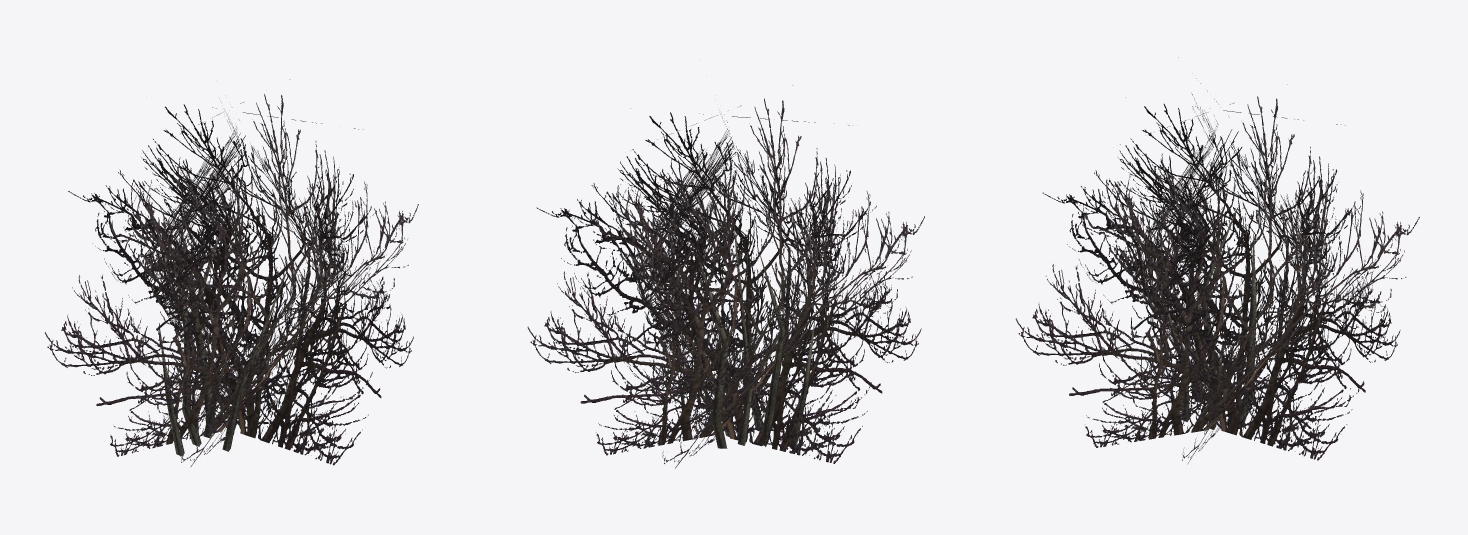
The model's file is Tree1.glb.
3 views of the same model, side by side, from view 1: azimuth 30°, elevation 25°; view 2: azimuth 150°, elevation 25°; view 3: azimuth 270°, elevation 25° (orthographic).
Visible parts, largest first — view 1: Tree_02_Tree_02_0; view 2: Tree_02_Tree_02_0; view 3: Tree_02_Tree_02_0.
Part boxes in pixels (x1=…): Tree_02_Tree_02_0: x1=45, y1=79, x2=418, y2=467; Tree_02_Tree_02_0: x1=527, y1=85, x2=924, y2=468; Tree_02_Tree_02_0: x1=1015, y1=57, x2=1419, y2=464.
Bounding box in the file's own units: 701 × 562 × 730.
2 materials, 2 textured.
